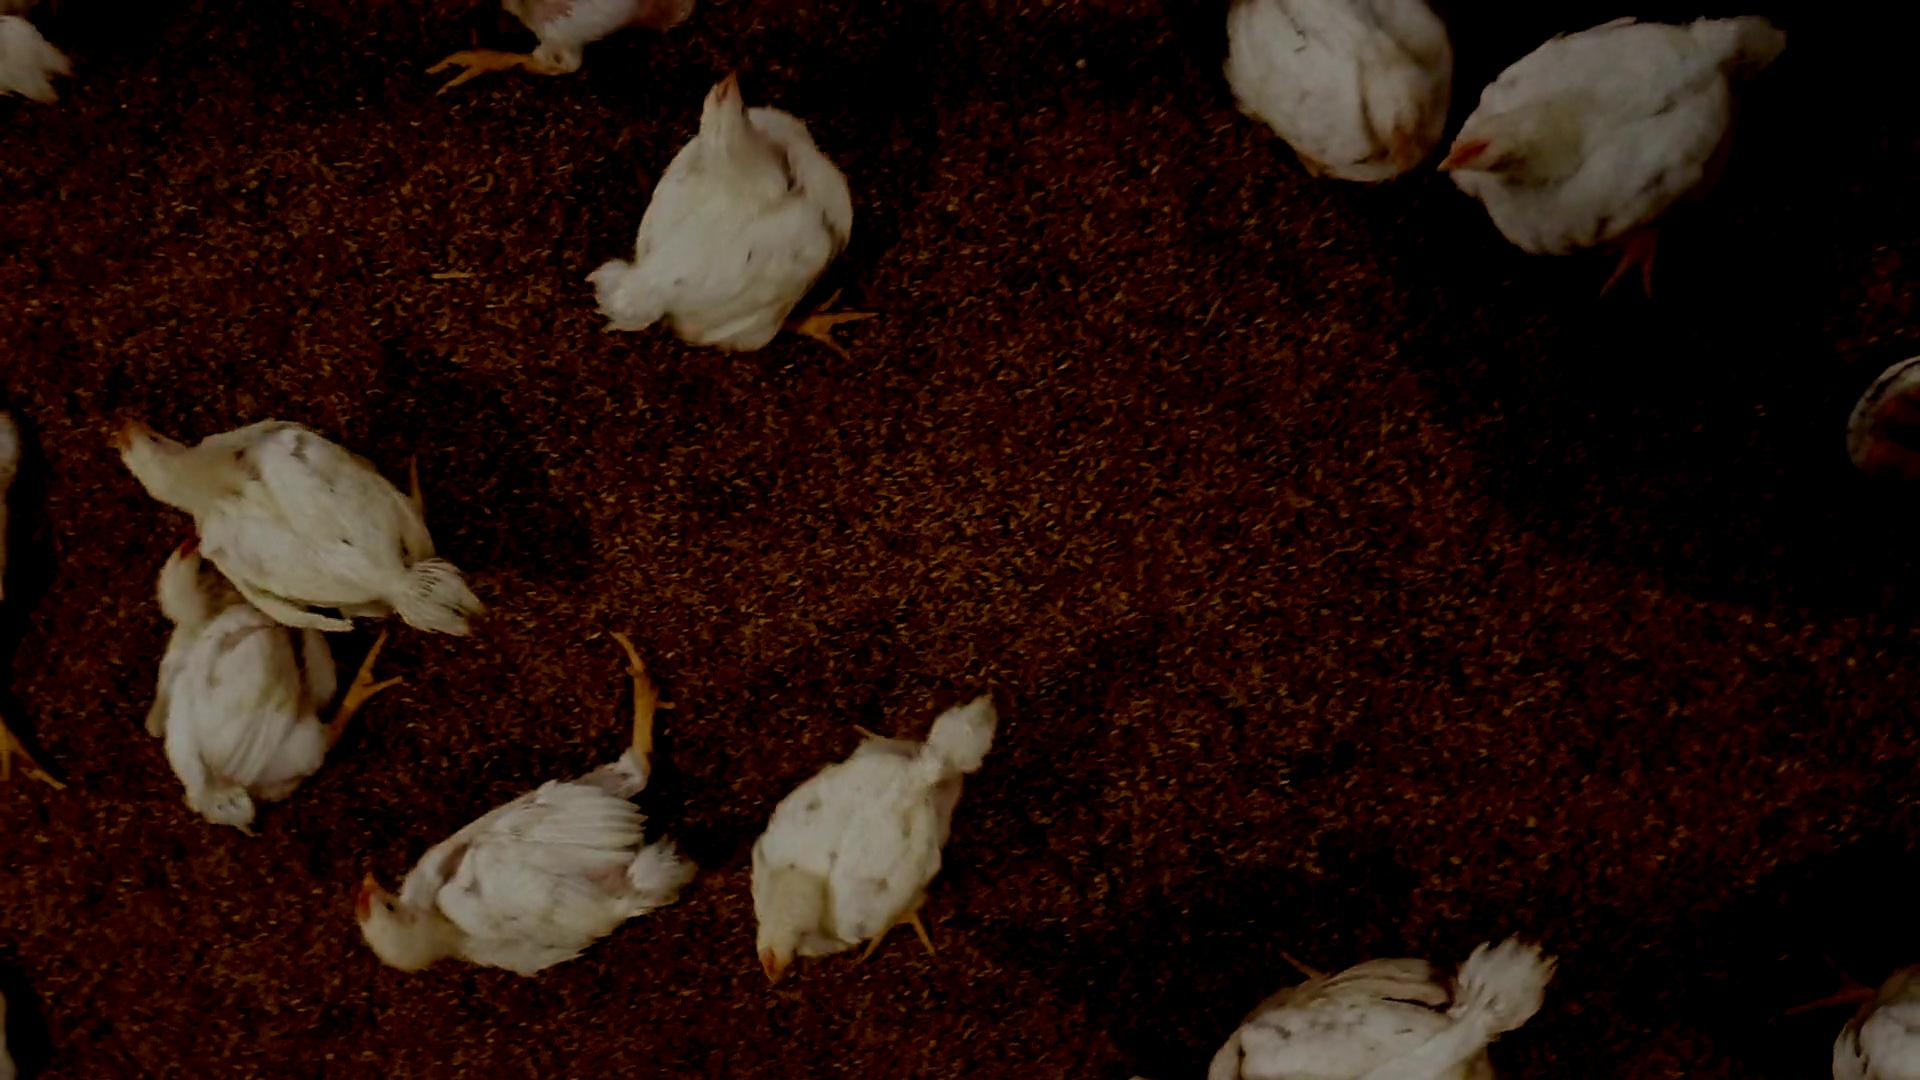Pollos: (1455, 4, 1784, 262), (352, 740, 694, 988), (746, 688, 1007, 996), (117, 410, 476, 628), (644, 67, 858, 349), (138, 541, 301, 807), (1218, 1, 1435, 193)
